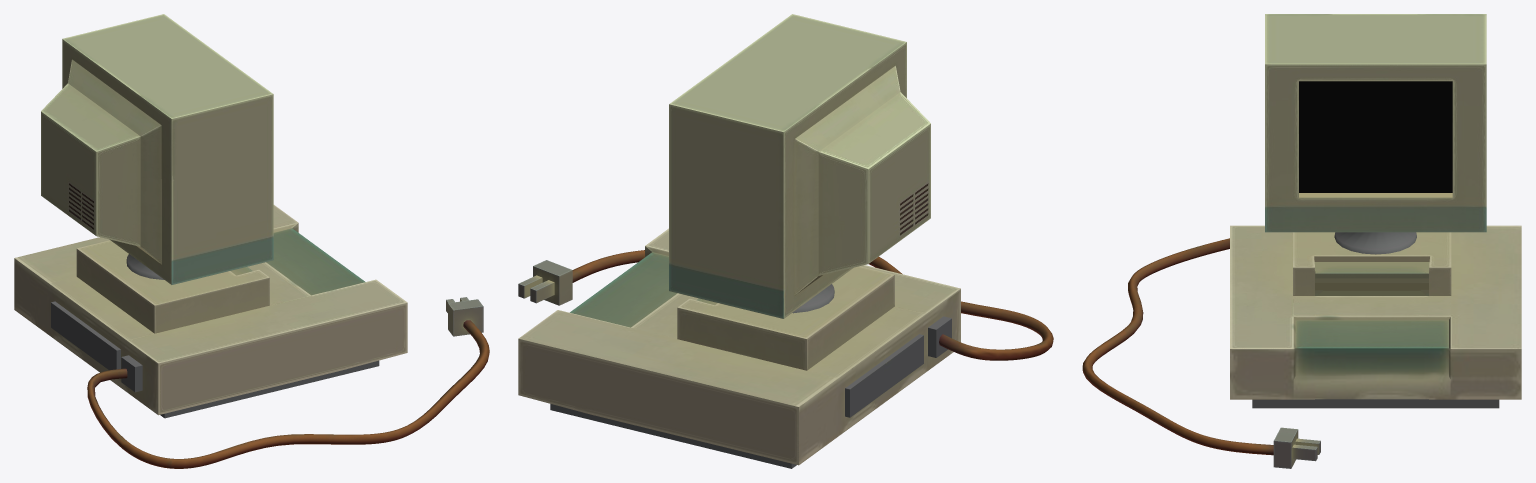
File: low_poly_computer.glb
The picture shows the model from 3 angles, left to right: view 1: azimuth 30°, elevation 25°; view 2: azimuth 150°, elevation 25°; view 3: azimuth 270°, elevation 25°; orthographic projection. The views are drawn at different scales.
Visible parts, largest first — view 1: Object_6, Object_5, Object_3, Object_4; view 2: Object_6, Object_5, Object_4, Object_3; view 3: Object_5, Object_6, Object_2, Object_4, Object_3.
Boxes of the visible parts, <box> form: Object_6: <box>41,14,273,284</box>; Object_5: <box>14,205,407,415</box>; Object_3: <box>87,320,489,468</box>; Object_4: <box>51,254,483,418</box>; Object_6: <box>669,14,930,318</box>; Object_5: <box>518,228,960,465</box>; Object_4: <box>518,260,951,468</box>; Object_3: <box>572,250,1053,360</box>; Object_5: <box>1230,225,1521,399</box>; Object_6: <box>1265,14,1486,232</box>; Object_2: <box>1299,81,1452,192</box>; Object_4: <box>1252,232,1499,468</box>; Object_3: <box>1082,238,1273,455</box>.
Bounding box in the file's own units: 3.14 × 2.15 × 2.88.
Materials: 5 (5 with a texture image).
